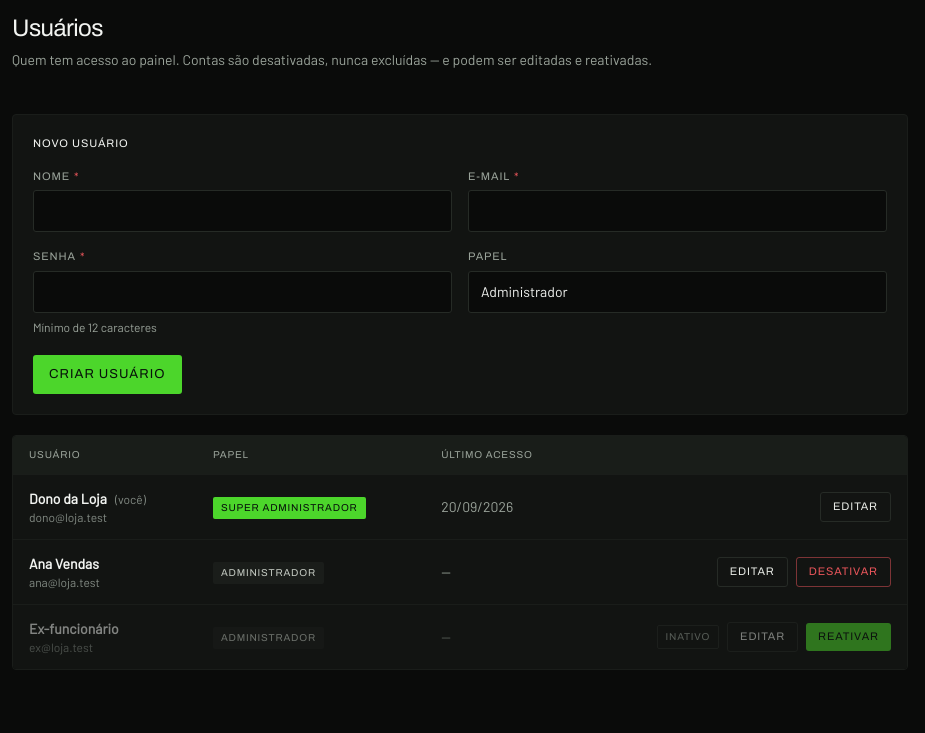
usuários › cria usuário com o papel escolhido e limpa o formulário
Expected: the text "Dono da Loja" is shown, [29,490,107,507]
Type "Bruno" into the field labelled "Nome*".
click(242, 211); type("Bruno")  # box [33,190,452,232]
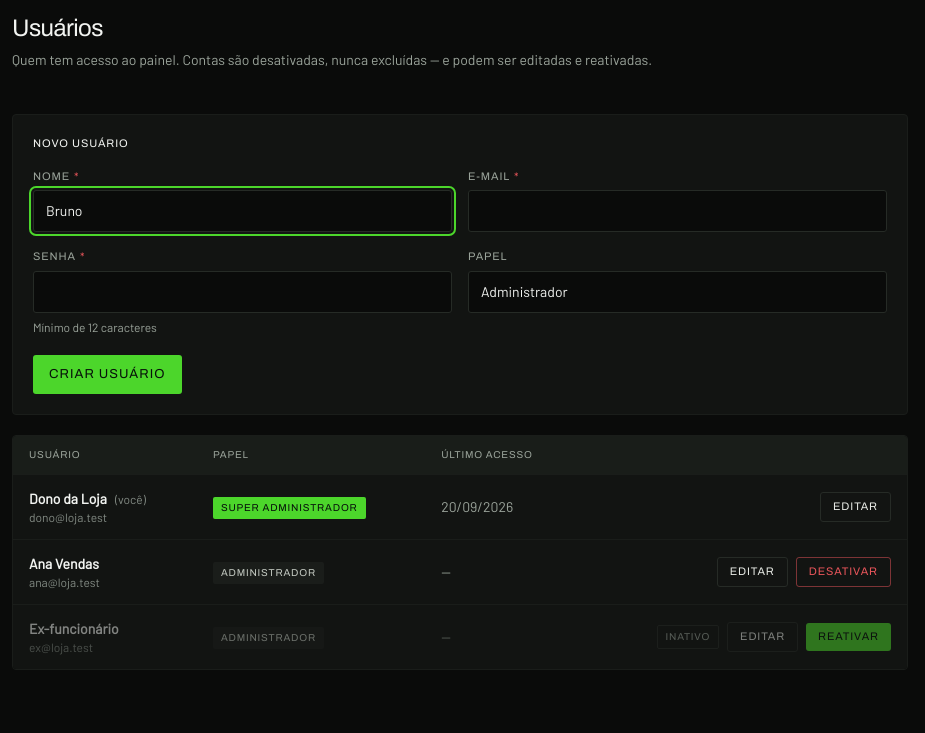
Type "bruno@loja.test" into the field labelled "E-mail*".
click(678, 211); type("bruno@loja.test")  # box [468,190,887,232]
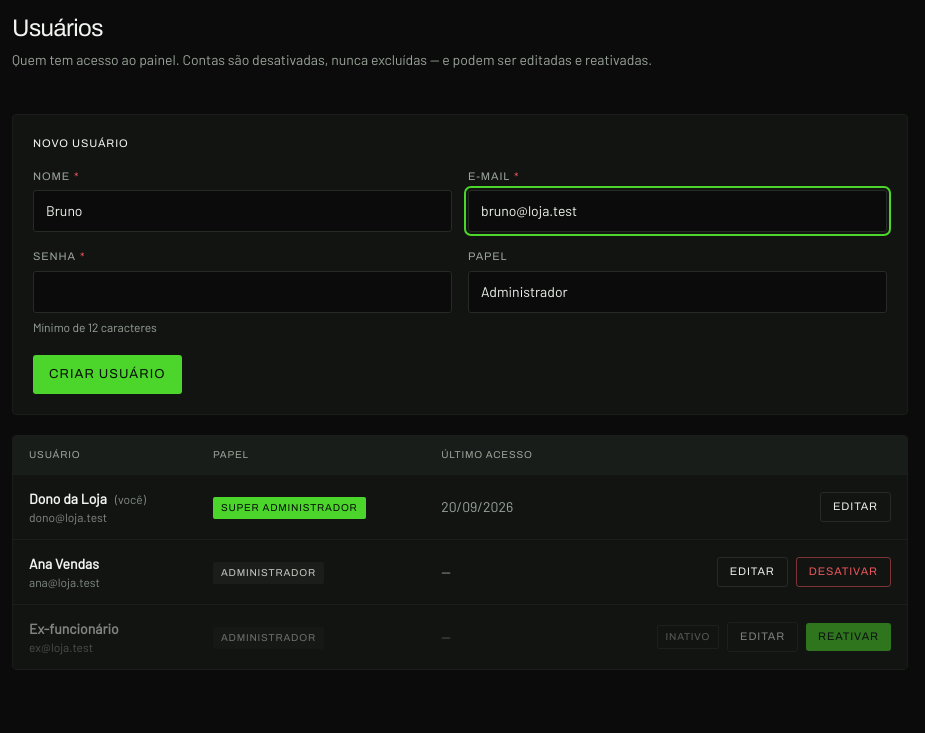
Type "chave-do-bruno-2026" into the password field labelled "Senha*".
click(242, 292); type("chave-do-bruno-2026")  # box [33,270,452,312]
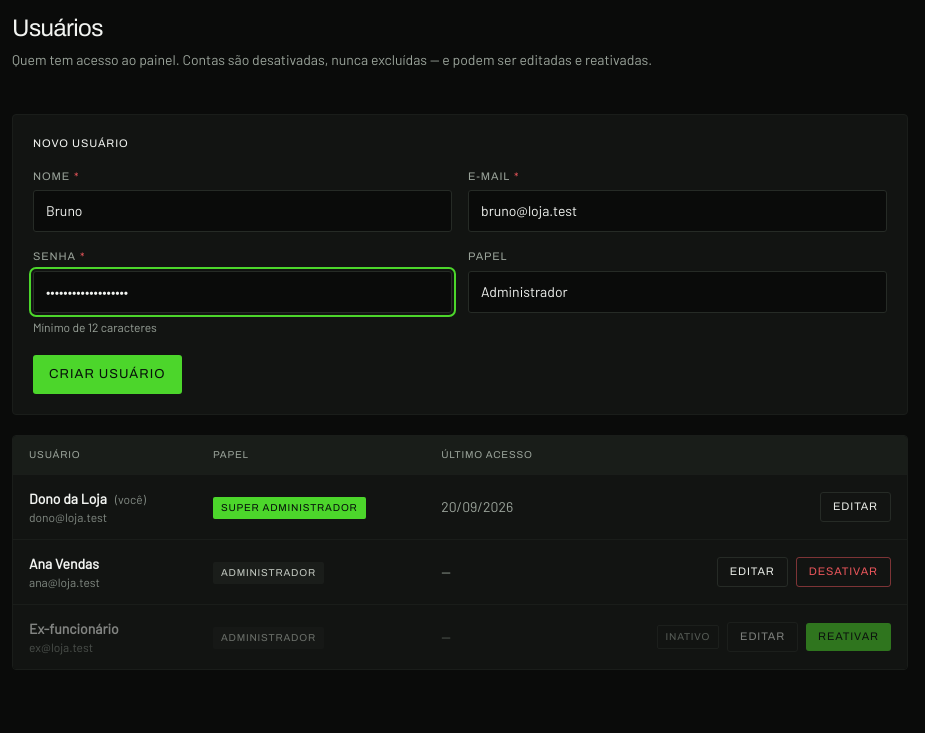
Click the button "Criar usuário".
click(107, 374)  # box [33,354,182,394]
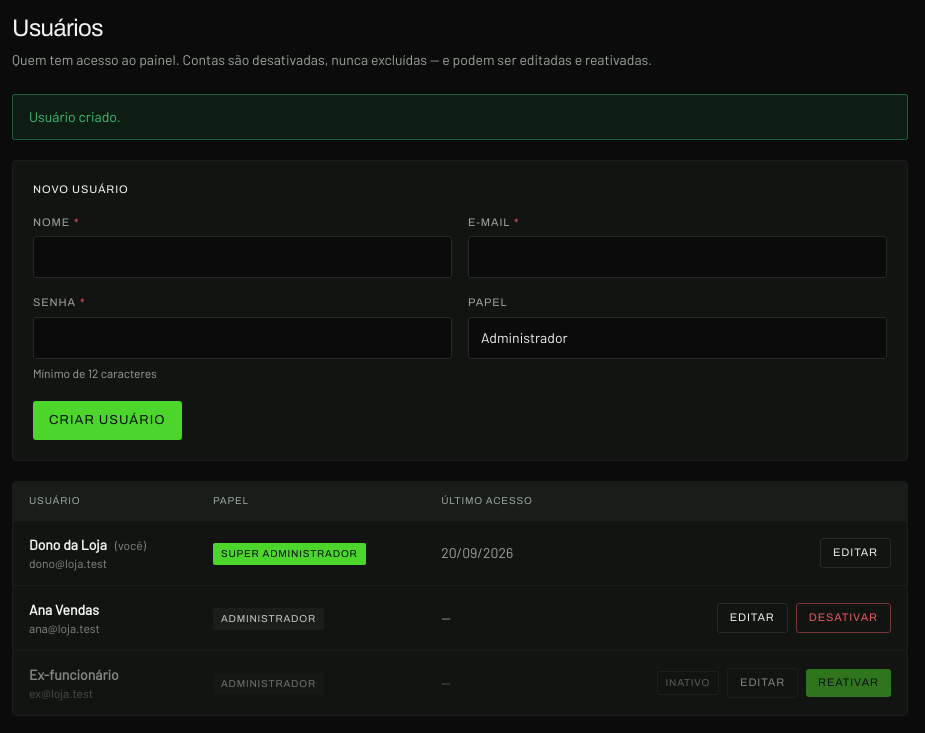
Now the text "Usuário criado." is shown, box [12,94,908,140]
Now the field labelled "Nome*" is empty, box [33,236,452,278]
